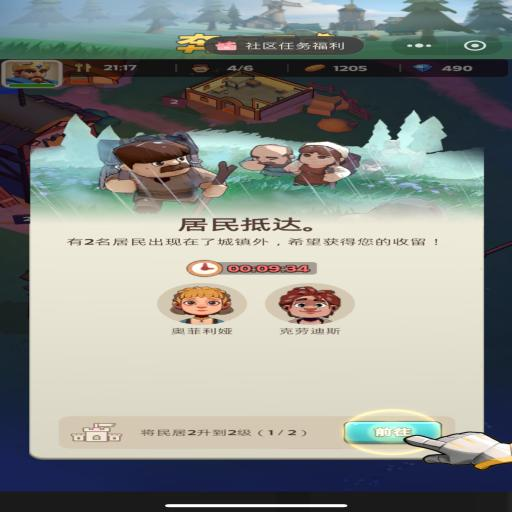newcomer_hand: (403, 431, 512, 470)
